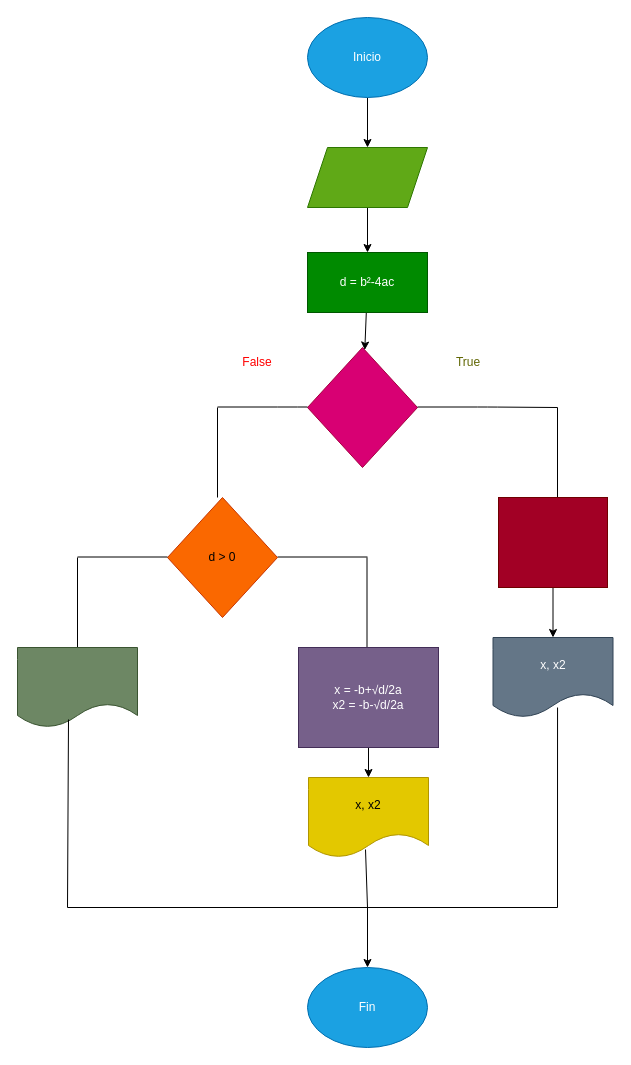
This 631x1065 diagram has some shape labels left out. Here are the shapes that lost their labels. From the top down, the centre of each, then its label:
the point at 367,177: a, b, c
the point at 362,407: d==0
the point at 553,542: x = -b/2a x2 = x
the point at 77,687: msj = La solución es imaginaria
